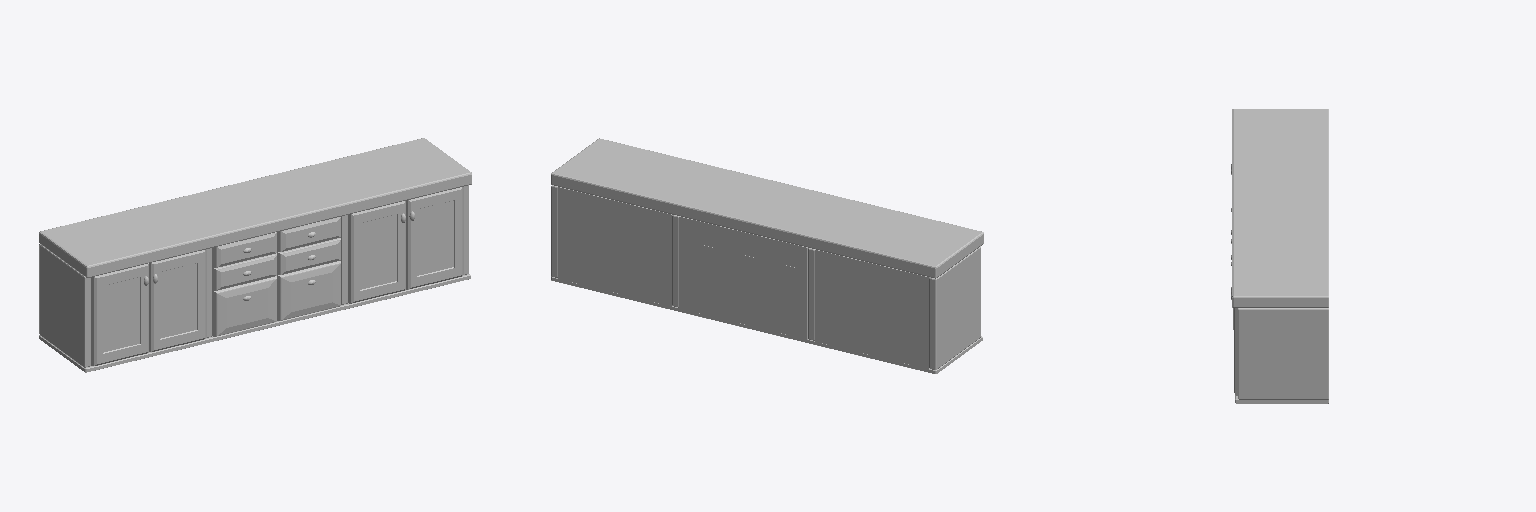
The model's file is MuebleCocina30x8.obj.
The picture shows the model from 3 angles: view 1: azimuth 30°, elevation 25°; view 2: azimuth 150°, elevation 25°; view 3: azimuth 270°, elevation 25°; orthographic projection.
Visible parts, largest first — view 1: MuebleCocina; view 2: MuebleCocina; view 3: MuebleCocina.
Boxes of the visible parts, <box> form: MuebleCocina: <box>39,138,471,372</box>; MuebleCocina: <box>551,138,983,373</box>; MuebleCocina: <box>1231,109,1328,403</box>.
Bounding box in the file's own units: 30.06 × 8.01 × 6.65.